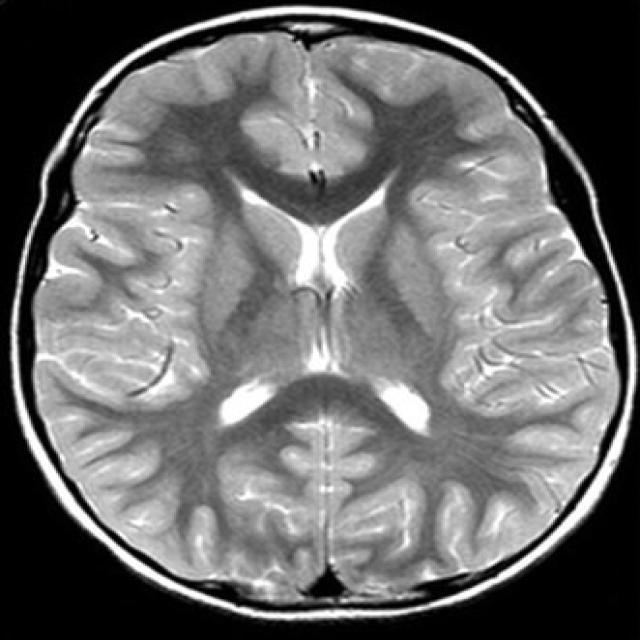No_Tumor: (15, 8, 635, 618)
